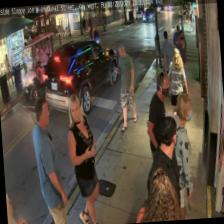person: (140, 109, 187, 221), (62, 91, 101, 224), (29, 95, 69, 224), (161, 91, 199, 220), (142, 70, 178, 202), (165, 46, 192, 156), (132, 165, 180, 222), (112, 42, 138, 132)
